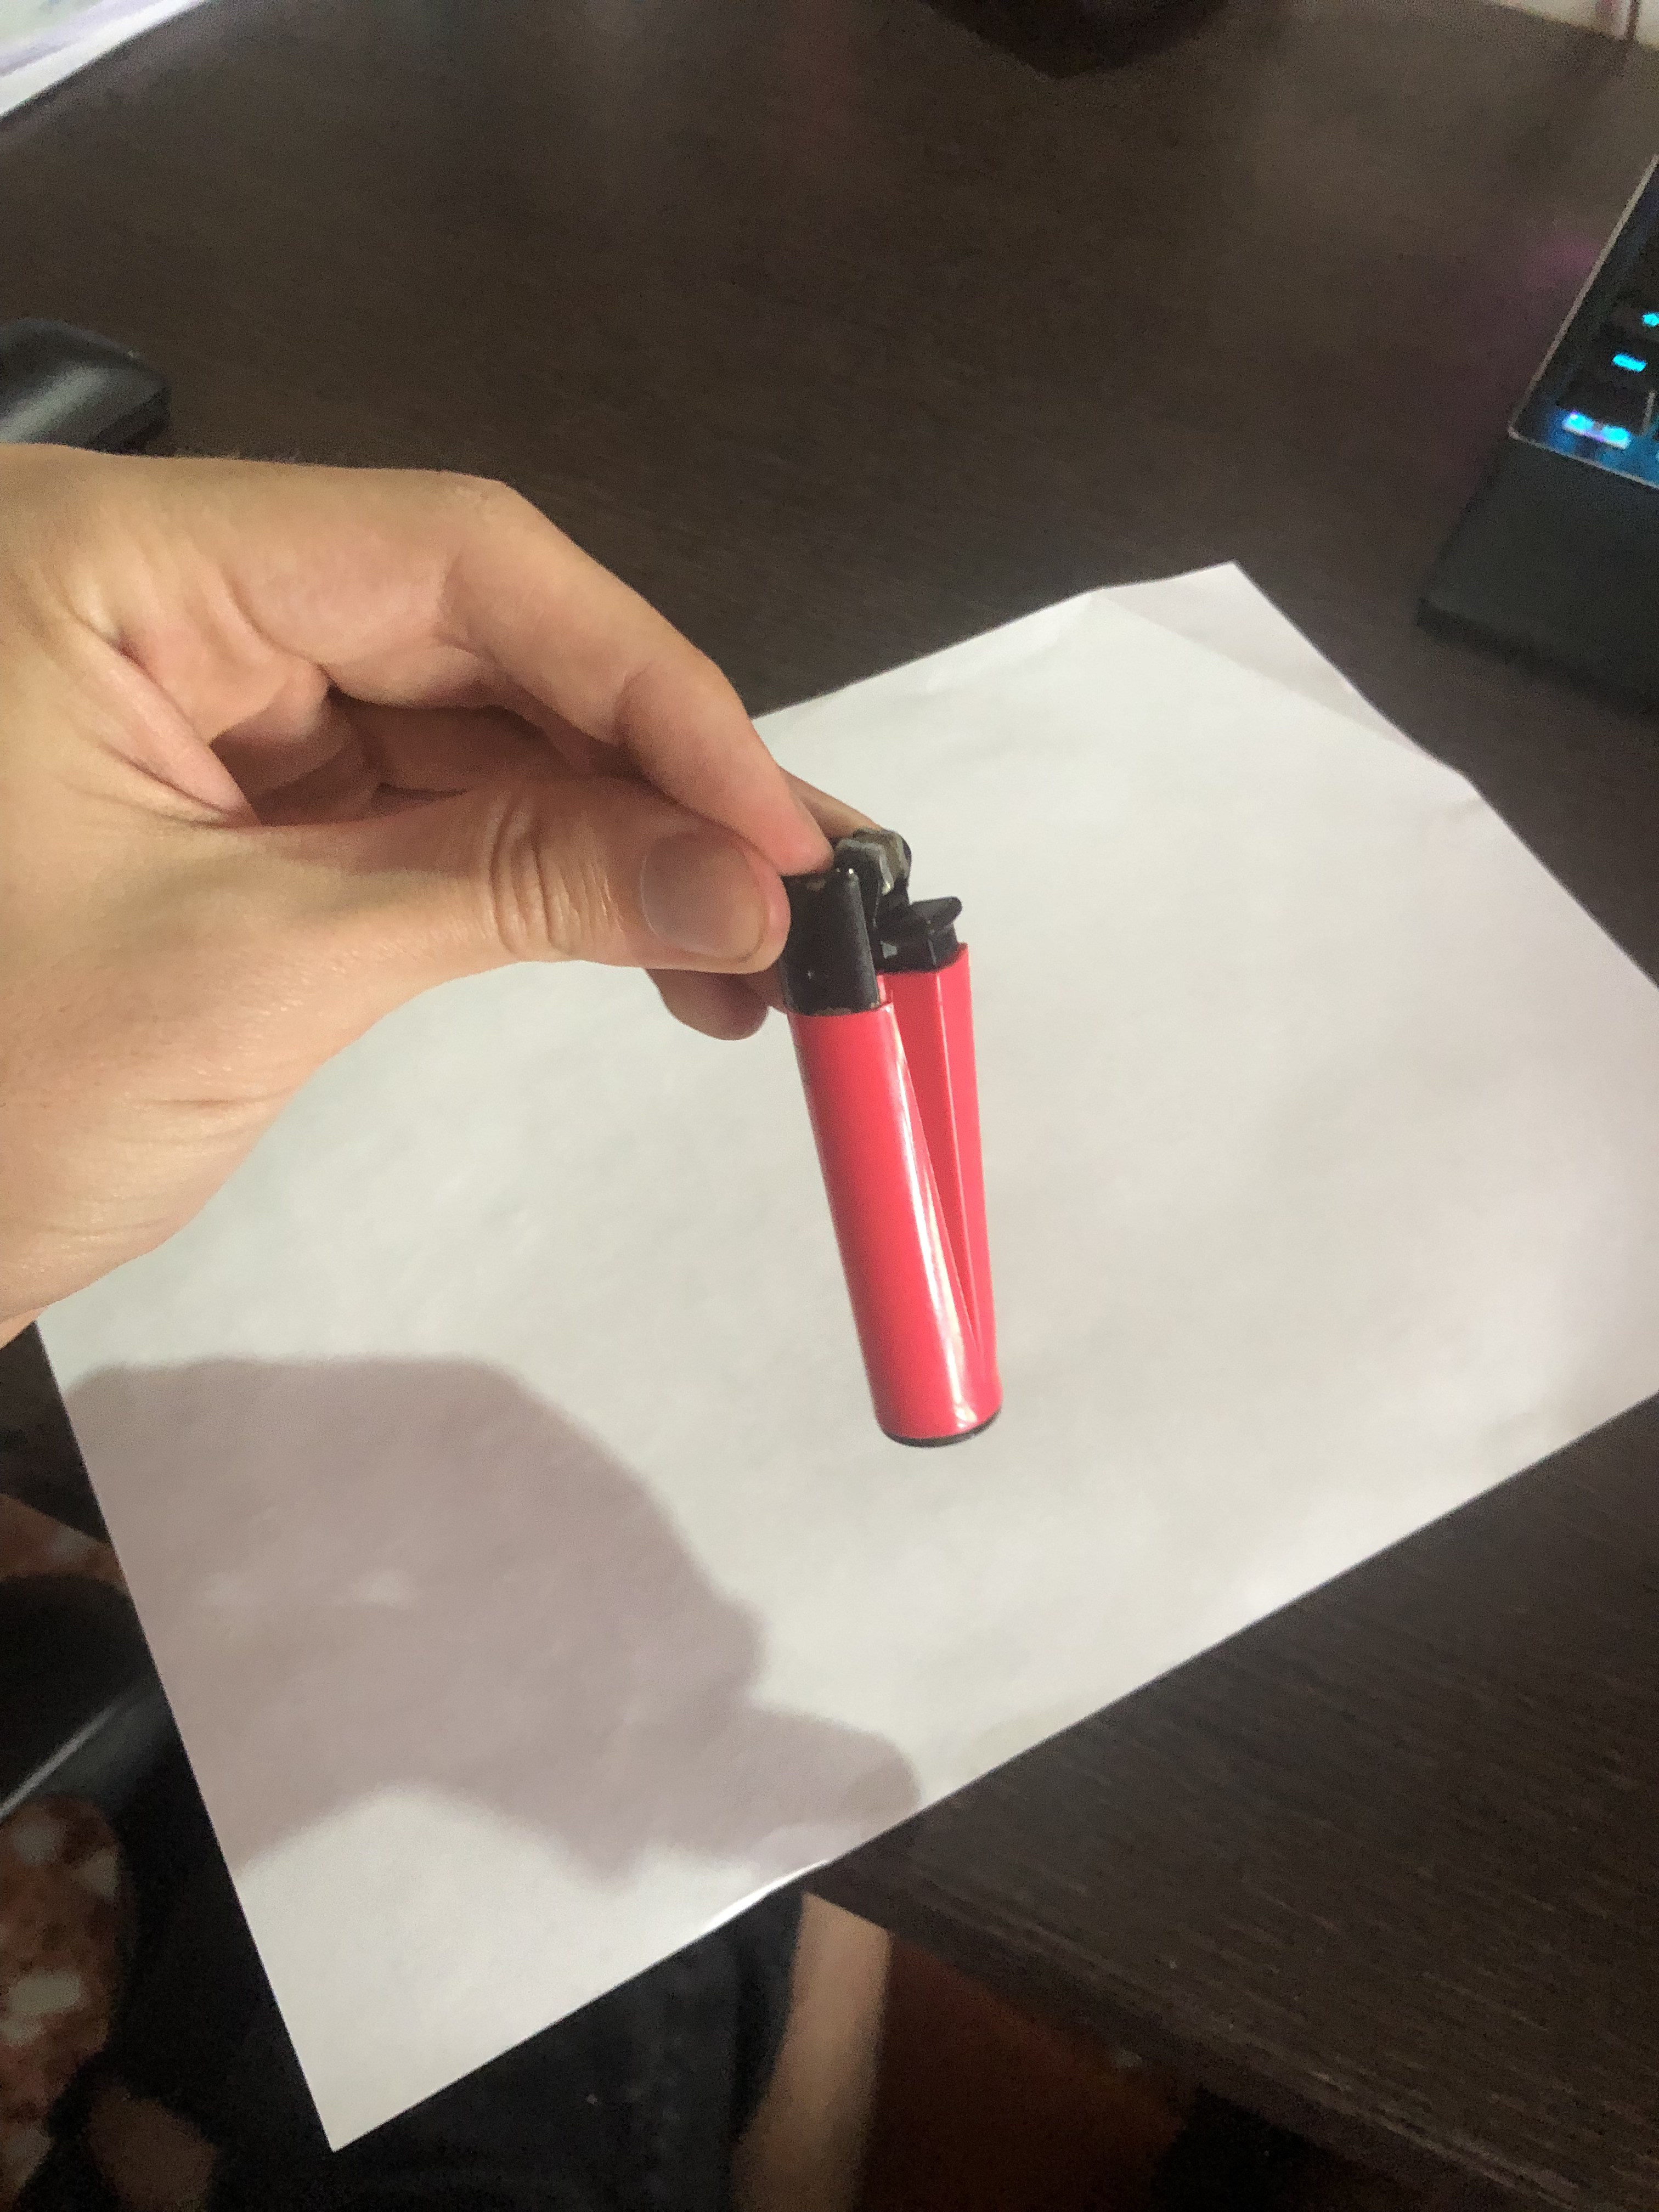Mechero: (708, 798, 1070, 1470)
